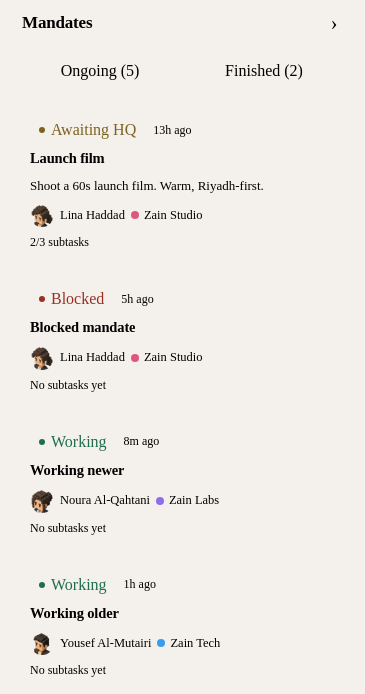
Test: MandatesRail › counts ongoing and finished mandates in segmented tabs
Click the tab "Finished (2)" at point(264, 71), box [184,55,344,87]
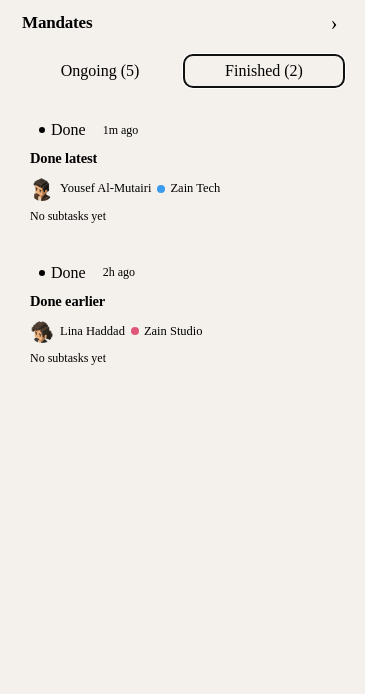
Expected: the number of list items is 2, [16,105,348,238]; [16,248,348,380]
Expected: the text "Done latest" is shown, [30,149,97,169]
